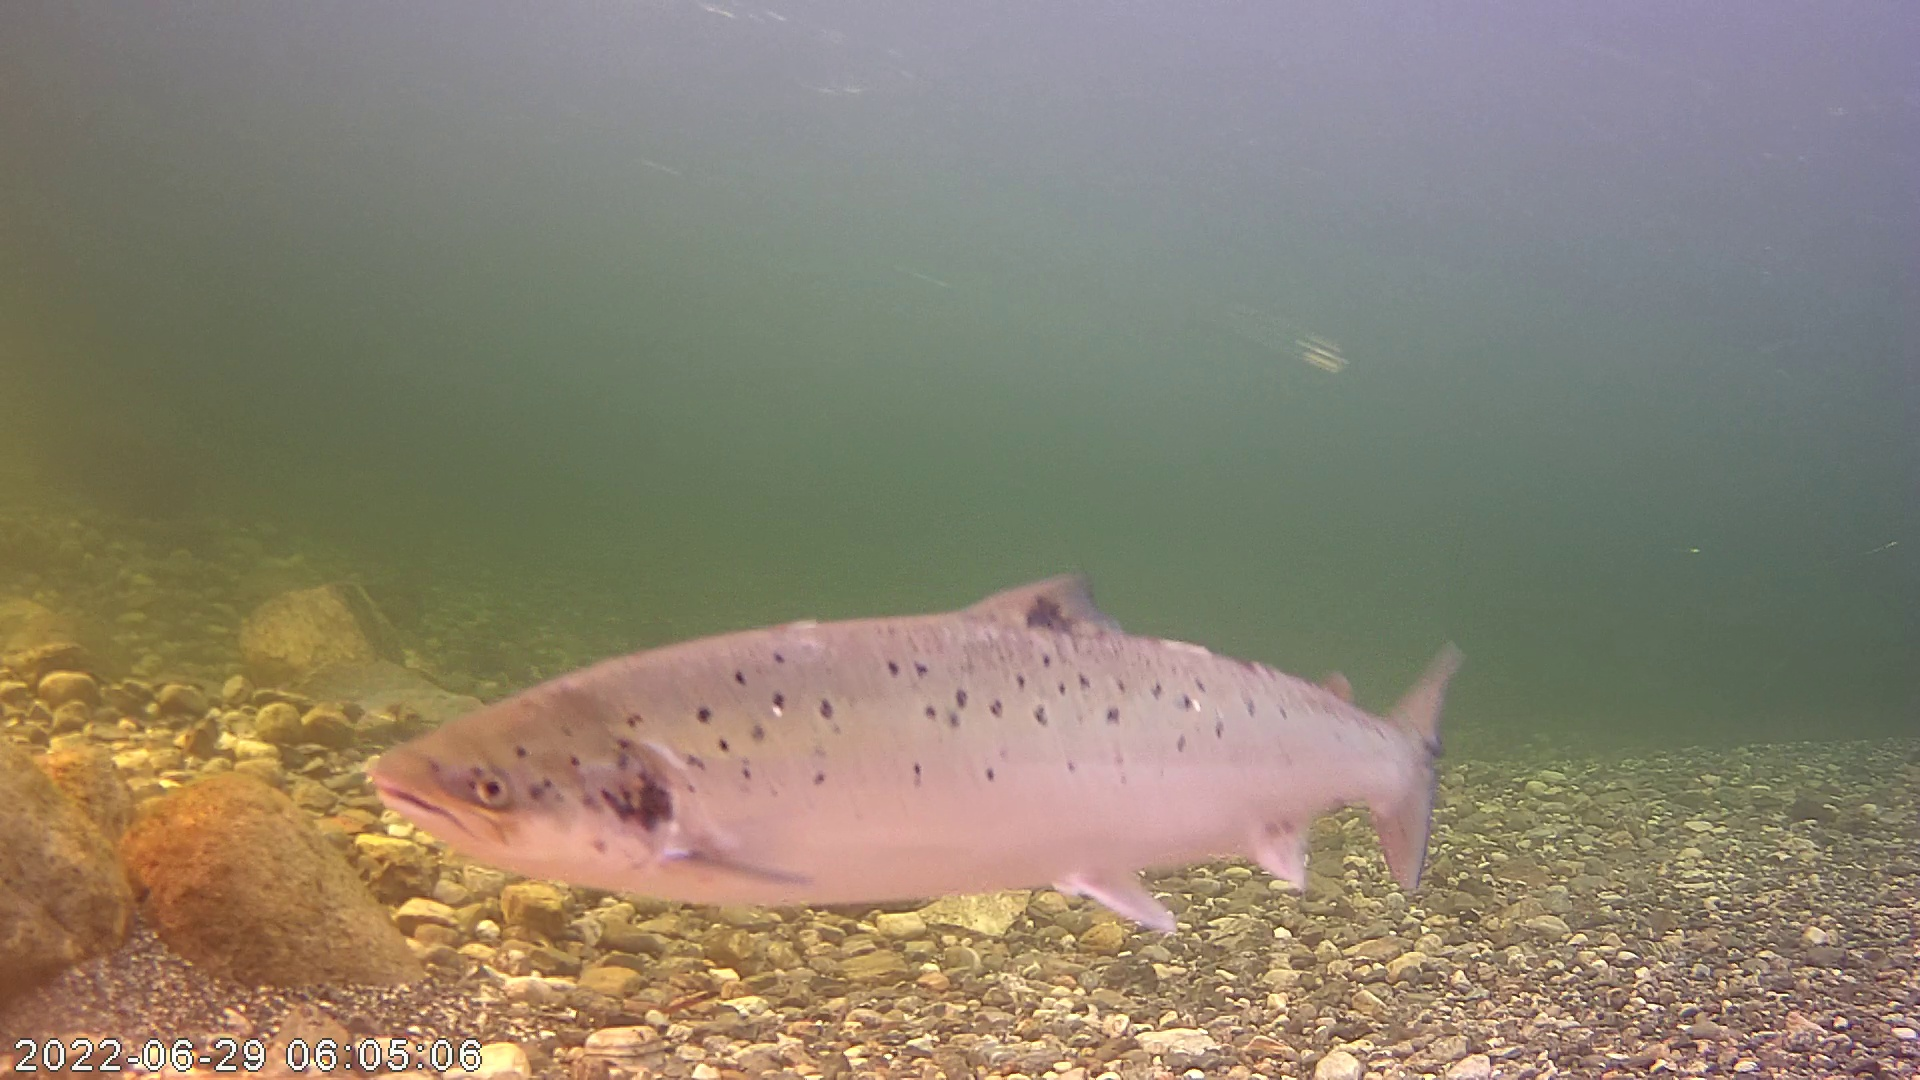salmon: (355, 502, 1472, 949)
